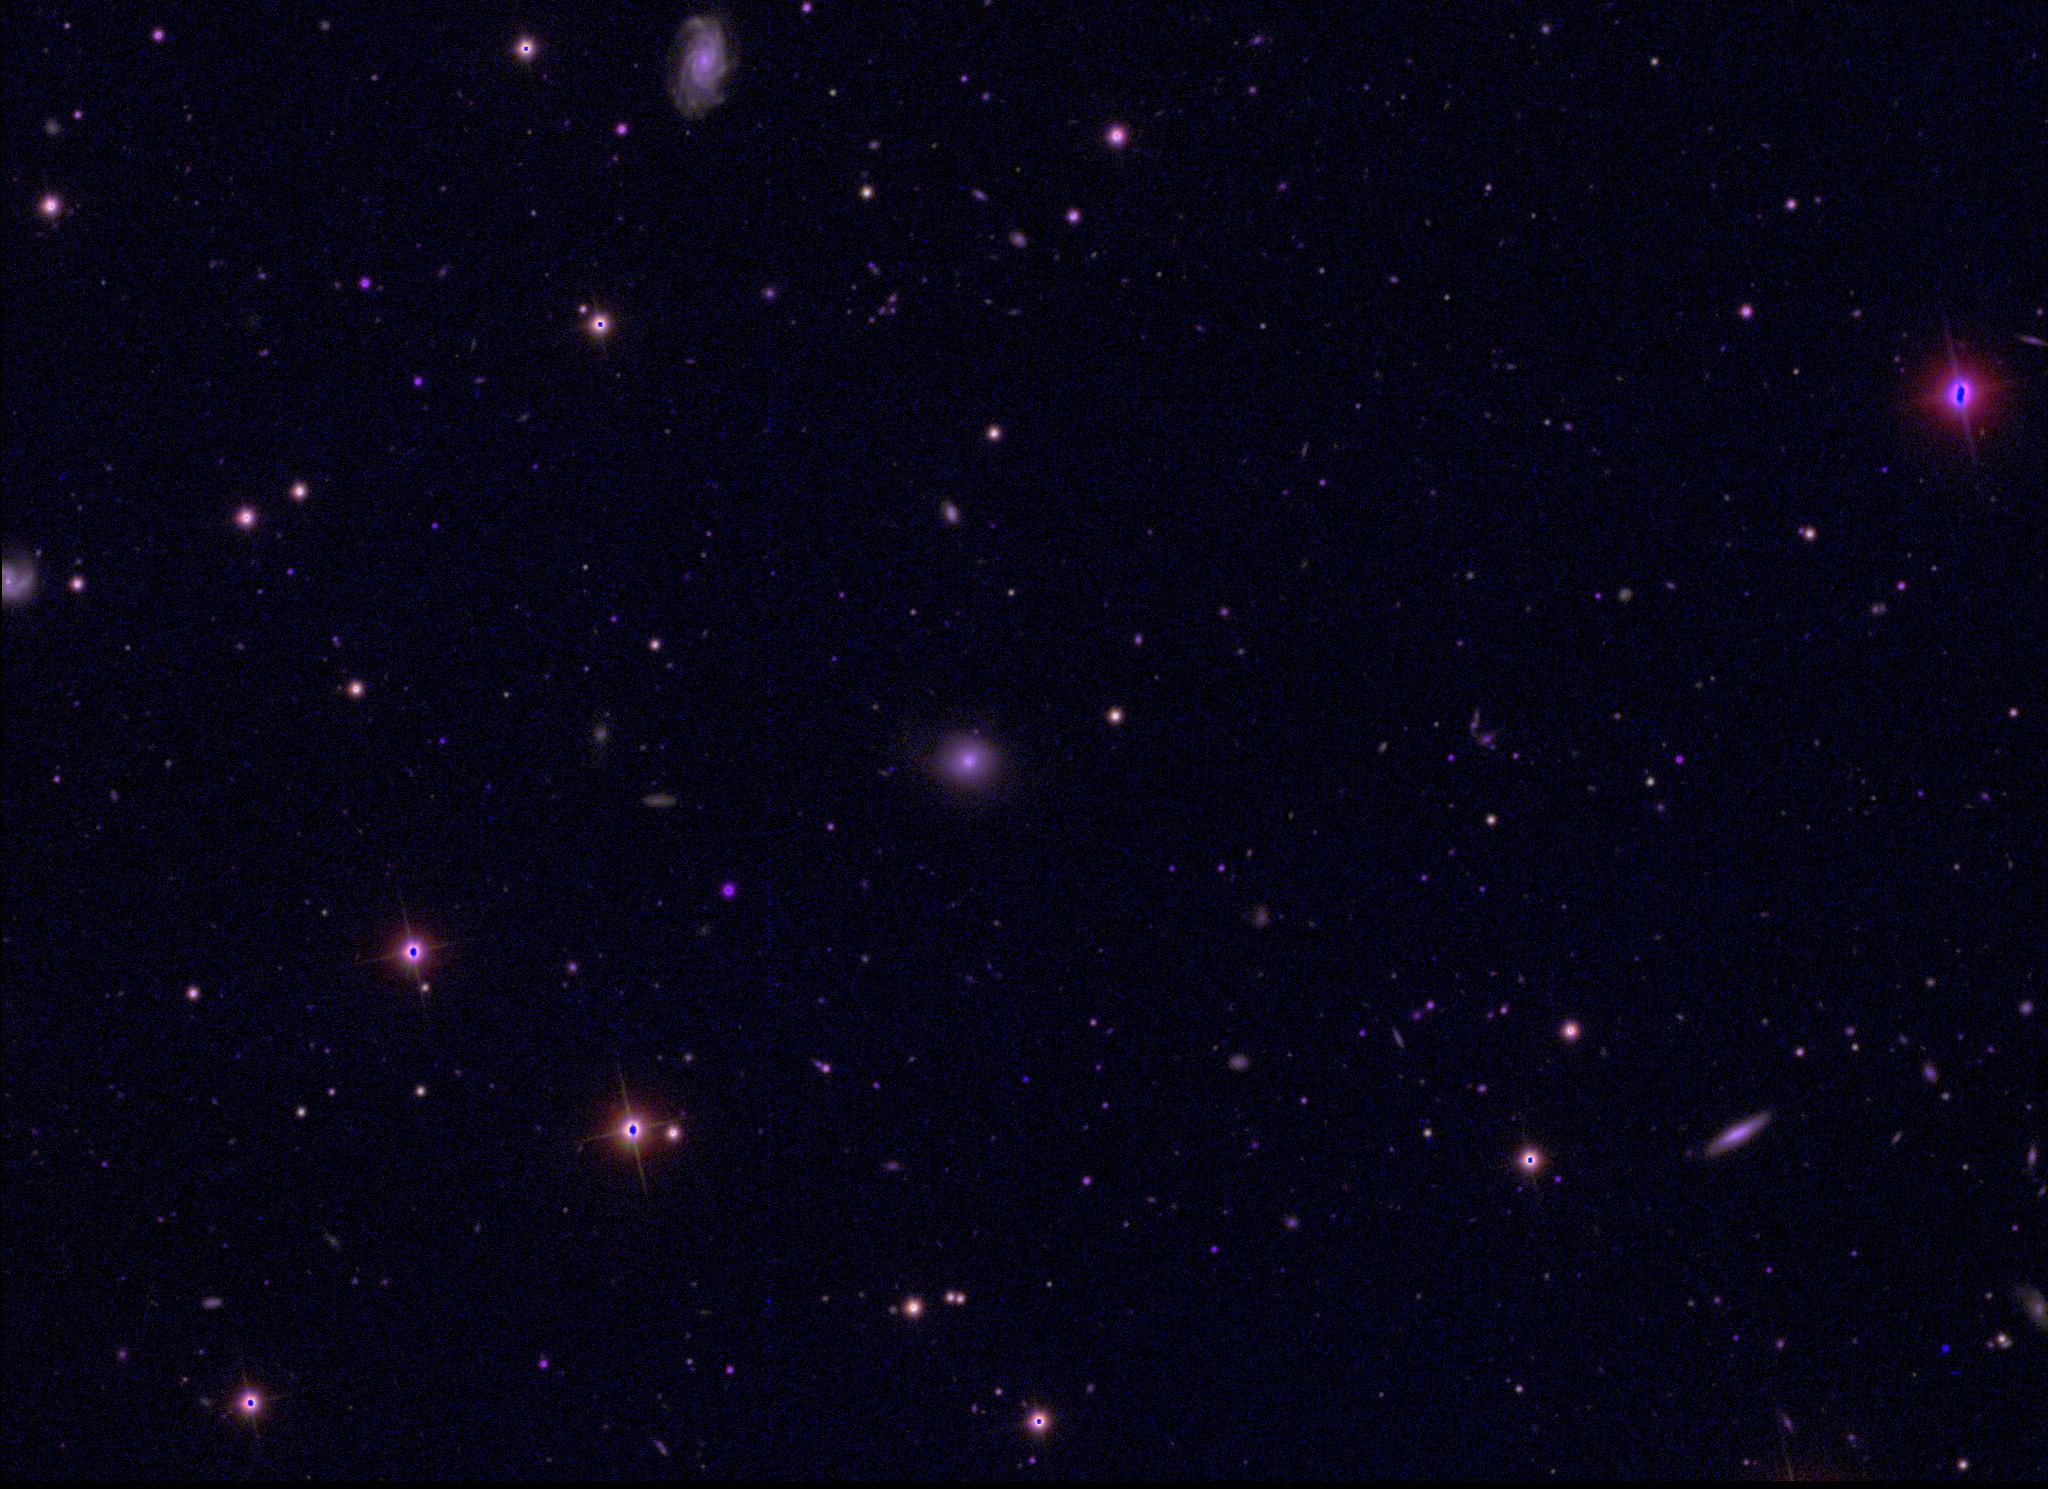L: (1938, 1343, 1953, 1355)
